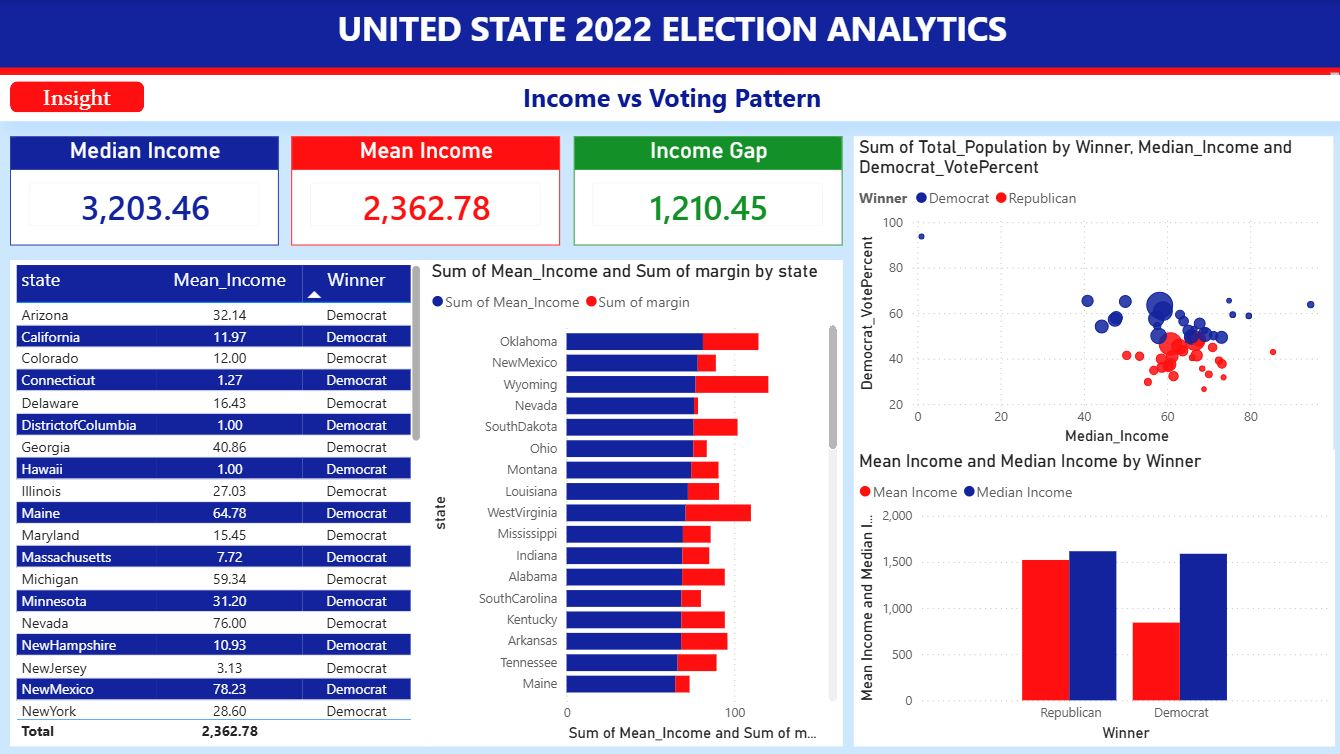

The page's visual inventory and layout, read from the dashboard file:
{"tool":"powerbi","page":{"name":"Income","canvas":[1280,720],"ordinal":3},"visuals":[{"type":"textbox","box":[0,0,1280.3,64.5],"z":0},{"type":"textbox","box":[0,64.5,1280.3,12.3],"z":1000},{"type":"textbox","box":[0,71.4,1280.3,43.9],"z":2000},{"type":"cardVisual","title":"Median Income","fields":{"Data":["Sum(Incomevoting.Median_Income)"]},"box":[9.5,130.1,256.1,104.3],"z":3000},{"type":"cardVisual","title":"Income Gap","fields":{"Data":["Sum(Incomevoting.Income_Gap)"]},"box":[546,130.1,256.1,104.3],"z":4000},{"type":"cardVisual","title":"Mean Income","fields":{"Data":["Sum(Incomevoting.Mean_Income)"]},"box":[277.7,130.1,256.1,104.3],"z":5000},{"type":"scatterChart","fields":{"Series":["Incomevoting.Winner"],"X":["Incomevoting.Median_Income"],"Y":["Incomevoting.Democrat_VotePercent"],"Size":["Sum(Incomevoting.Total_Population)"]},"box":[813.1,129.8,457.1,298.8],"z":6000},{"type":"tableEx","fields":{"Values":["Incomevoting.state","Sum(Incomevoting.Mean_Income)","Incomevoting.Winner"]},"box":[9.5,247.6,396.4,463.1],"z":7000},{"type":"barChart","fields":{"Category":["Incomevoting.state"],"Y":["Sum(Incomevoting.Mean_Income)","Sum(Incomevoting.margin)"]},"box":[406,247.6,396.4,463.1],"z":8000},{"type":"clusteredColumnChart","fields":{"Category":["Incomevoting.Winner"],"Y":["Sum(Incomevoting.Mean_Income)","Sum(Incomevoting.Median_Income)"]},"box":[813.1,428.6,458.3,282.1],"z":9000},{"type":"shape","box":[9.9,77,127.9,29.8],"z":10000}]}

Visuals, with their boxes in screenshot pixels (x1, y1, x2, y2), scaled from the page's 1280x720 canvas onto the 1340x754 screenshot:
textbox: (0,0,1339,68)
textbox: (0,68,1339,80)
textbox: (0,75,1339,121)
"Median Income" cardVisual: (10,136,278,245)
"Income Gap" cardVisual: (572,136,840,245)
"Mean Income" cardVisual: (291,136,559,245)
scatterChart - Incomevoting.Winner x Incomevoting.Median_Income: (851,136,1330,449)
tableEx - Incomevoting.state x Sum(Incomevoting.Mean_Income): (10,259,425,744)
barChart - Incomevoting.state x Sum(Incomevoting.Mean_Income): (425,259,840,744)
clusteredColumnChart - Incomevoting.Winner x Sum(Incomevoting.Mean_Income): (851,449,1331,744)
shape: (10,81,144,112)
